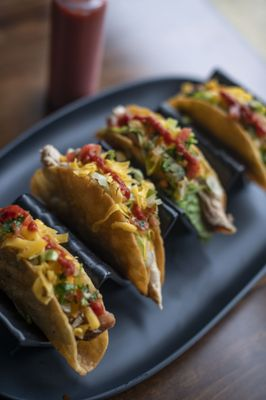pizza: (48, 0, 108, 110)
